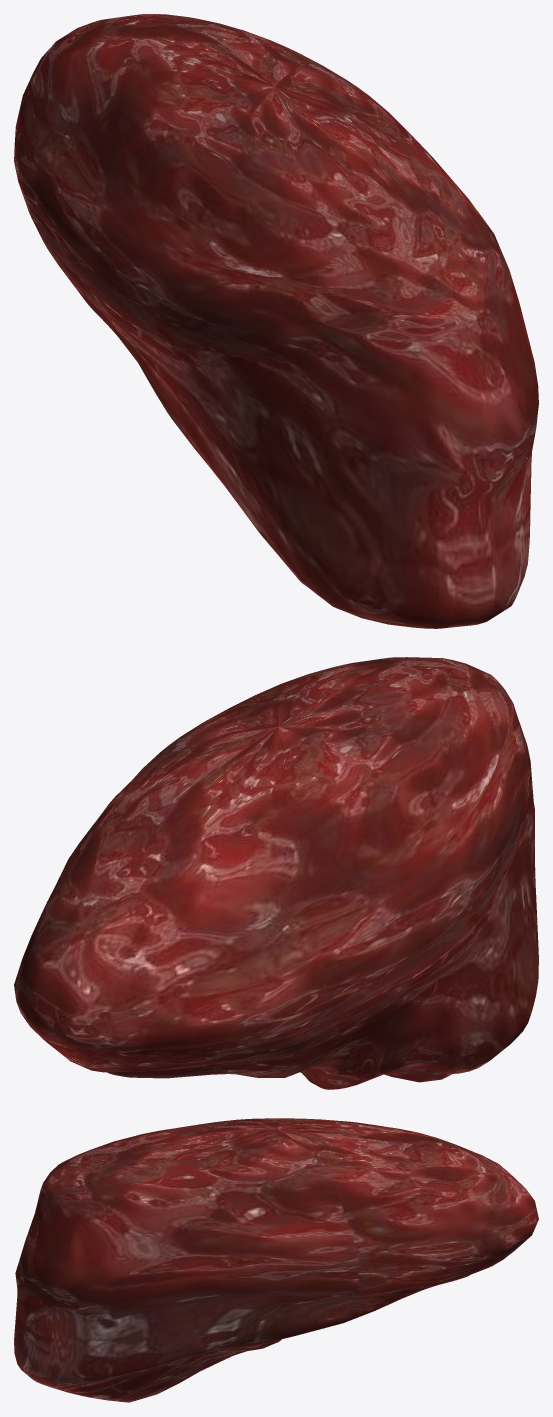
File: lebertexturiert.fbx
3 views of the same model, one above another, from view 1: azimuth 30°, elevation 25°; view 2: azimuth 150°, elevation 25°; view 3: azimuth 270°, elevation 25° (orthographic). The views are drawn at different scales.
Visible parts, largest first — view 1: pSphere8; view 2: pSphere8; view 3: pSphere8.
Part boxes in pixels (<box>): pSphere8: <box>14,14,538,628</box>; pSphere8: <box>14,657,538,1089</box>; pSphere8: <box>14,1118,538,1402</box>.
Size of the model in its own units: 6.12 by 8.47 by 15.28.
